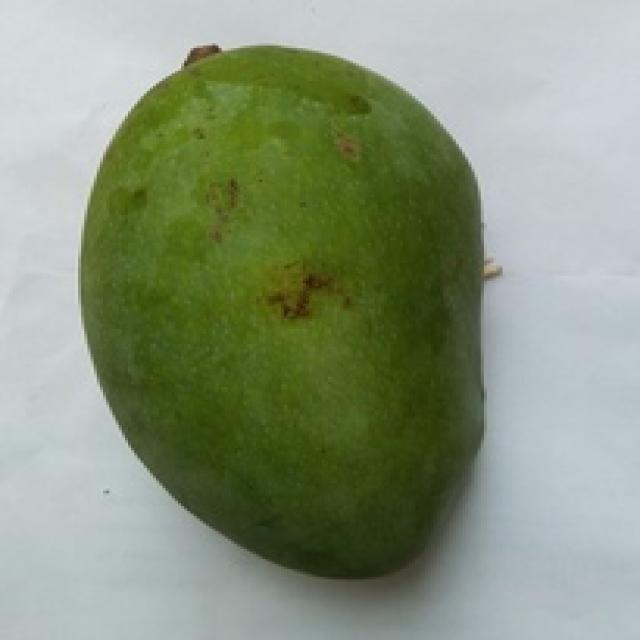Mango: (84, 46, 481, 574)
